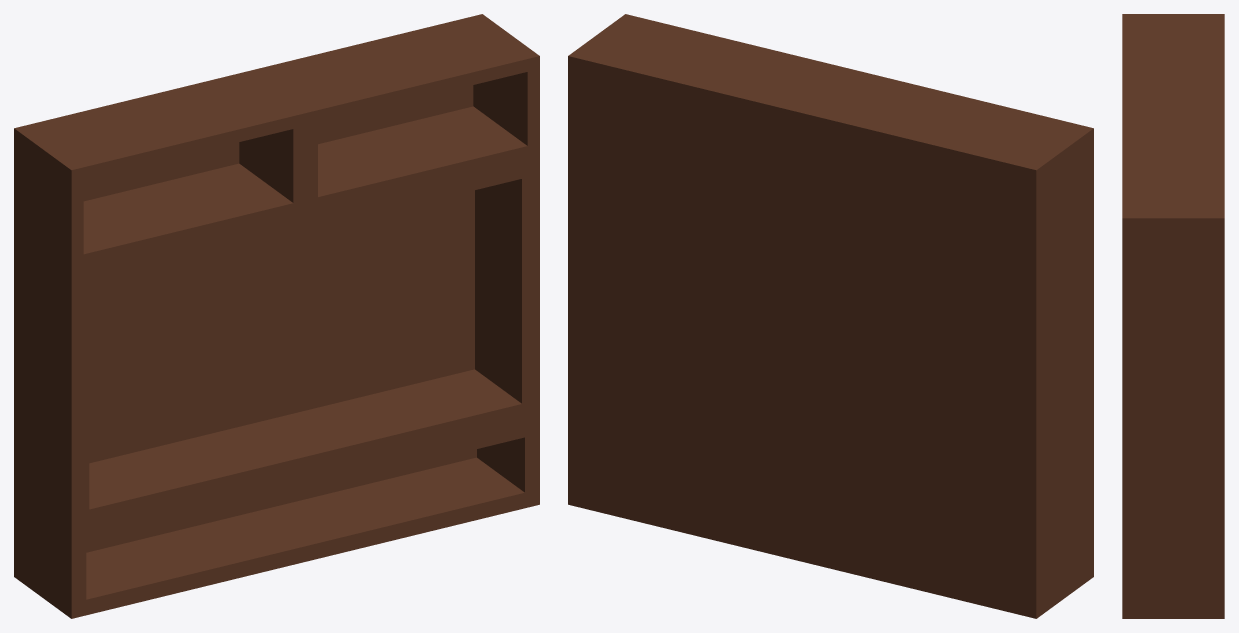
The model's file is TvTableV2.fbx.
The picture shows the model from 3 angles, left to right: view 1: azimuth 30°, elevation 25°; view 2: azimuth 150°, elevation 25°; view 3: azimuth 270°, elevation 25°; orthographic projection. The views are drawn at different scales.
Parts seen in each view (by area): view 1: TvTableV2; view 2: TvTableV2; view 3: TvTableV2.
Boxes of the visible parts, x1=… form: TvTableV2: x1=14, y1=14, x2=539, y2=618; TvTableV2: x1=568, y1=14, x2=1093, y2=618; TvTableV2: x1=1122, y1=14, x2=1224, y2=618.
Bounding box in the file's own units: 167 × 152 × 35.34.
